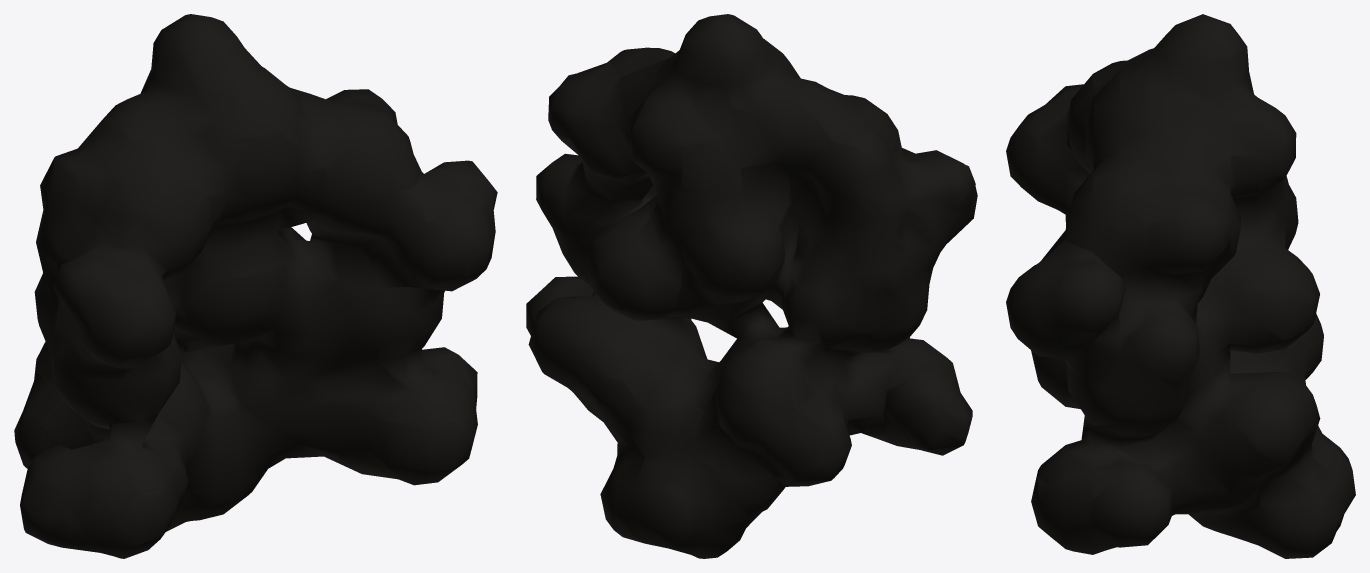
Rendered from cheveux.fbx.
3 renders of one model, left to right at view 1: azimuth 30°, elevation 25°; view 2: azimuth 150°, elevation 25°; view 3: azimuth 270°, elevation 25°, orthographic. The views are drawn at different scales.
Parts seen in each view (by area): view 1: cheveux; view 2: cheveux; view 3: cheveux.
Boxes of the visible parts, box(x1,y1,x2,y2) form: cheveux: box(14, 14, 497, 558); cheveux: box(526, 14, 977, 558); cheveux: box(1006, 14, 1355, 558).
Bounding box in the file's own units: 1.6 × 1.81 × 1.08.
1 material, 1 textured.
